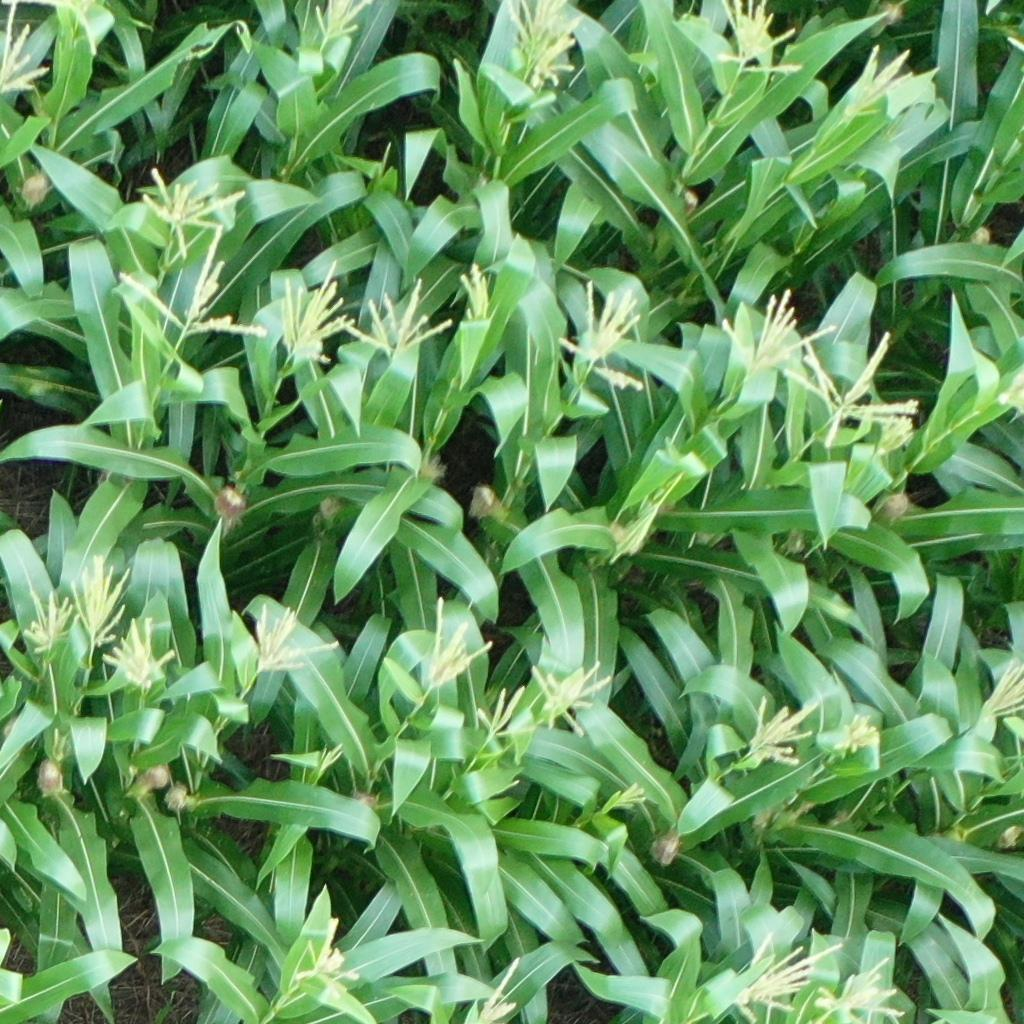Tassel: (124, 225, 273, 345), (789, 319, 925, 450), (723, 923, 841, 1024), (720, 289, 835, 380), (564, 277, 650, 396), (135, 163, 243, 257), (346, 280, 456, 360), (280, 262, 355, 366), (503, 1, 576, 94), (811, 951, 902, 1024), (248, 603, 341, 674), (713, 1, 804, 72), (426, 597, 492, 693), (532, 662, 613, 739), (70, 549, 132, 644), (846, 42, 913, 124), (292, 913, 361, 992), (746, 694, 818, 769), (101, 616, 172, 690), (1, 1, 51, 95), (605, 501, 663, 567), (20, 586, 78, 651), (477, 952, 528, 1024), (979, 656, 1024, 723), (310, 1, 375, 47), (476, 686, 529, 742), (50, 1, 108, 52), (459, 258, 499, 327), (830, 713, 884, 760), (879, 416, 928, 465), (609, 780, 655, 817), (320, 743, 347, 767)
